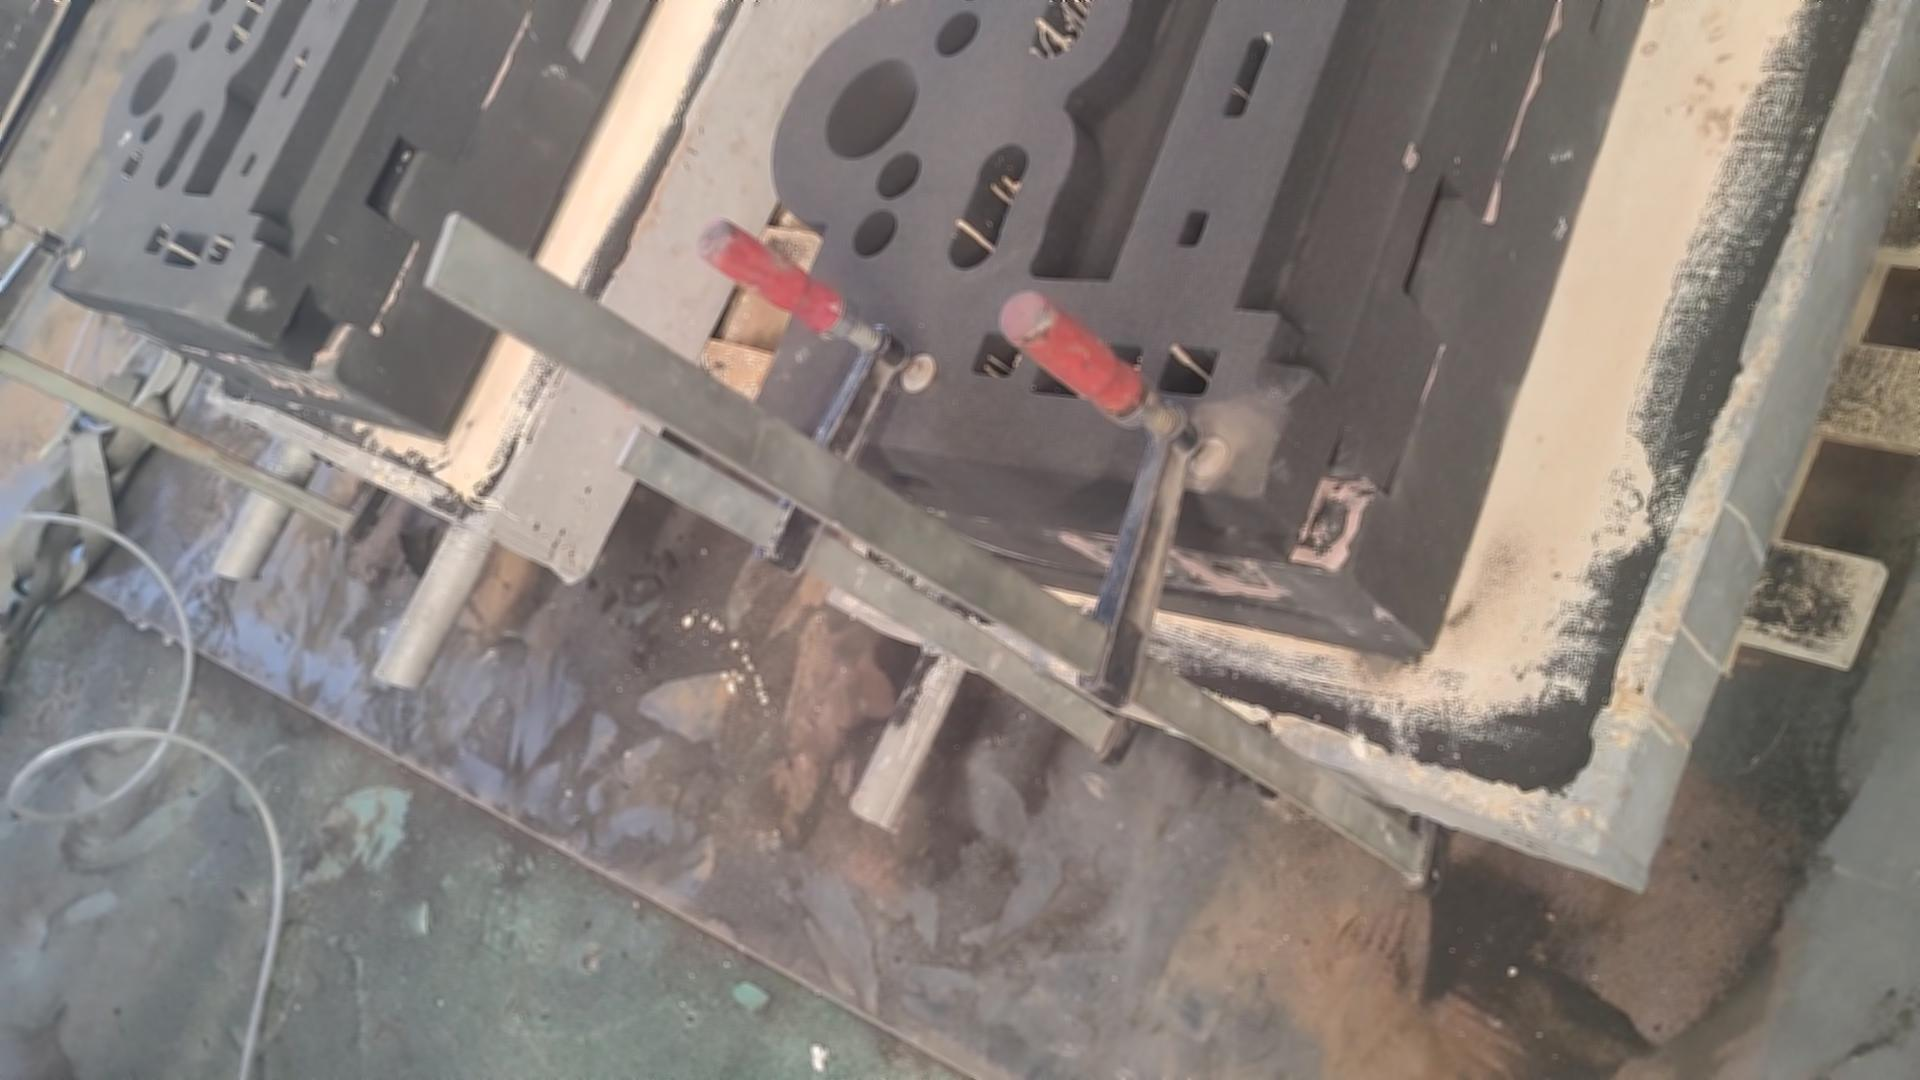pouring hole: (825, 61, 919, 161), (129, 49, 175, 117)
